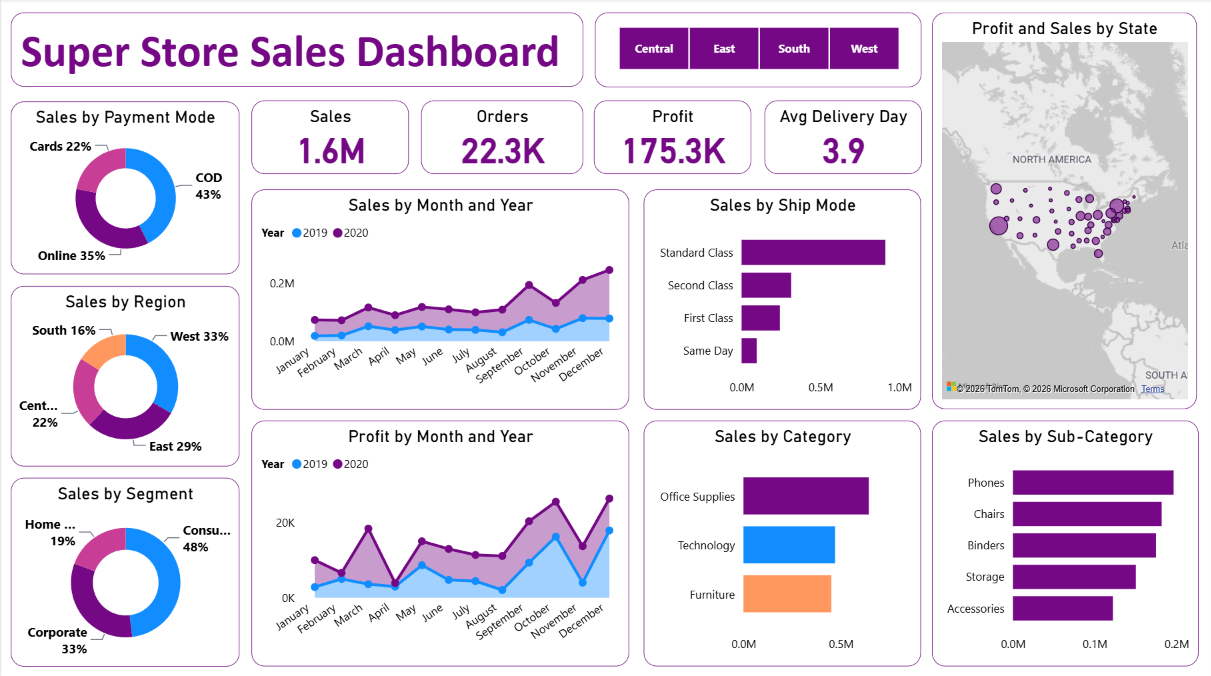

The page's visual inventory and layout, read from the dashboard file:
{"tool":"powerbi","page":{"name":"Superstore Sales Dashboard","canvas":[1280,720],"ordinal":0},"visuals":[{"type":"clusteredBarChart","title":"Sales by Category","fields":{"Category":["SuperStore_Sales_Dataset.Category"],"Y":["Sum(SuperStore_Sales_Dataset.Sales)"]},"box":[680.3,446.8,294,260.4],"z":0},{"type":"clusteredBarChart","title":"Sales by Sub-Category","fields":{"Category":["SuperStore_Sales_Dataset.Sub-Category"],"Y":["Sum(SuperStore_Sales_Dataset.Sales)"]},"box":[986,446.8,282.2,260.4],"z":1000},{"type":"clusteredBarChart","title":"Sales by Ship Mode","fields":{"Category":["SuperStore_Sales_Dataset.Ship Mode"],"Y":["Sum(SuperStore_Sales_Dataset.Sales)"]},"box":[680.3,201.6,294,233.5],"z":2000},{"type":"stackedAreaChart","title":"Sales by Month and Year","fields":{"Category":["SuperStore_Sales_Dataset.Order Date.Variation.Date Hierarchy.Month","SuperStore_Sales_Dataset.Order Date.Variation.Date Hierarchy.Day"],"Series":["SuperStore_Sales_Dataset.Order Date.Variation.Date Hierarchy.Year"],"Y":["Sum(SuperStore_Sales_Dataset.Sales)"]},"box":[265.4,201.6,399.8,233.5],"z":3000},{"type":"stackedAreaChart","title":"Profit by Month and Year","fields":{"Category":["SuperStore_Sales_Dataset.Order Date.Variation.Date Hierarchy.Month","SuperStore_Sales_Dataset.Order Date.Variation.Date Hierarchy.Day"],"Series":["SuperStore_Sales_Dataset.Order Date.Variation.Date Hierarchy.Year"],"Y":["Sum(SuperStore_Sales_Dataset.Profit)"]},"box":[265.4,446.8,399.8,260.4],"z":4000},{"type":"map","title":"Profit and Sales by State","fields":{"Category":["SuperStore_Sales_Dataset.State"],"Size":["Sum(SuperStore_Sales_Dataset.Sales)"]},"box":[986,15.1,280.5,419.9],"z":5000},{"type":"donutChart","title":"Sales by Segment","fields":{"Category":["SuperStore_Sales_Dataset.Segment"],"Y":["Sum(SuperStore_Sales_Dataset.Sales)"]},"box":[10.1,507.3,241.9,199.9],"z":6000},{"type":"donutChart","title":"Sales by Payment Mode","fields":{"Category":["SuperStore_Sales_Dataset.Payment Mode"],"Y":["Sum(SuperStore_Sales_Dataset.Sales)"]},"box":[10.1,109.2,241.9,183.1],"z":7000},{"type":"donutChart","title":"Sales by Region","fields":{"Category":["SuperStore_Sales_Dataset.Region"],"Y":["Sum(SuperStore_Sales_Dataset.Sales)"]},"box":[10.1,304,241.9,191.5],"z":8000},{"type":"slicer","fields":{"Values":["SuperStore_Sales_Dataset.Region"]},"box":[628.2,15.1,346,79],"z":9000},{"type":"card","title":"Sales","fields":{"Values":["All measures.Sales"]},"box":[264.7,107.8,166.4,78.1],"z":10000},{"type":"card","title":"Orders","fields":{"Values":["All measures.Orders"]},"box":[444.7,107.8,171.5,78.1],"z":11000},{"type":"card","title":"Profit","fields":{"Values":["All measures.Profit"]},"box":[628,107.8,166.4,78.1],"z":12000},{"type":"card","title":"Avg Delivery Day","fields":{"Values":["All measures.AVG Delivery day"]},"box":[808,107.8,166.4,78.1],"z":13000},{"type":"textbox","box":[10.1,14.6,606.3,78.6],"z":14000}]}

Visuals, with their boxes in screenshot pixels (x1, y1, x2, y2), scaled from the page's 1280x720 canvas onto the 1211x676 screenshot:
"Sales by Category" clusteredBarChart: (644,419,922,664)
"Sales by Sub-Category" clusteredBarChart: (933,419,1200,664)
"Sales by Ship Mode" clusteredBarChart: (644,189,922,409)
"Sales by Month and Year" stackedAreaChart: (251,189,629,409)
"Profit by Month and Year" stackedAreaChart: (251,419,629,664)
"Profit and Sales by State" map: (933,14,1198,408)
"Sales by Segment" donutChart: (10,476,238,664)
"Sales by Payment Mode" donutChart: (10,103,238,274)
"Sales by Region" donutChart: (10,285,238,465)
slicer - SuperStore_Sales_Dataset.Region: (594,14,922,88)
"Sales" card: (250,101,408,175)
"Orders" card: (421,101,583,175)
"Profit" card: (594,101,752,175)
"Avg Delivery Day" card: (764,101,922,175)
textbox: (10,14,583,88)
